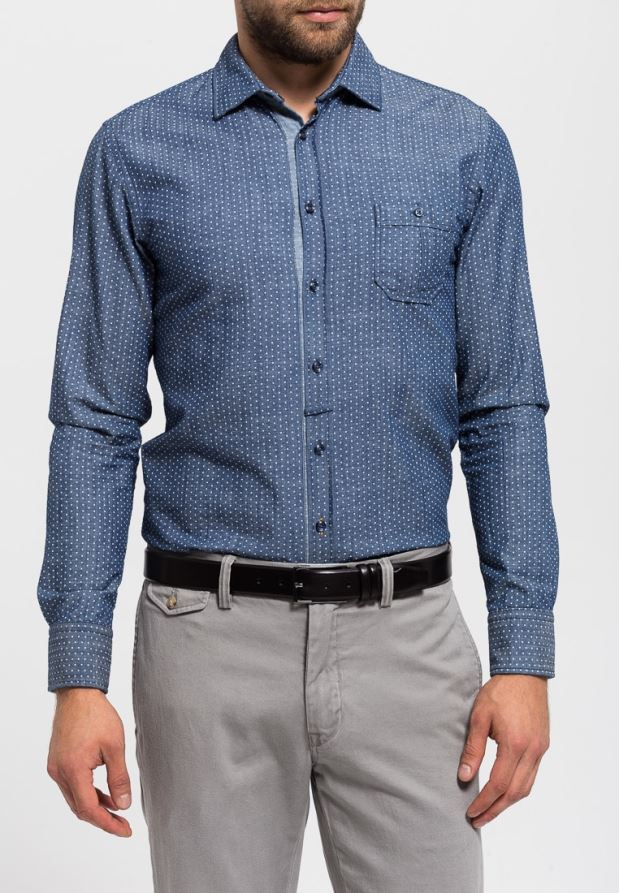F_belt: (141, 530, 457, 602)
F_dress pants: (123, 539, 502, 893)
F_shirt: (19, 29, 563, 689)
